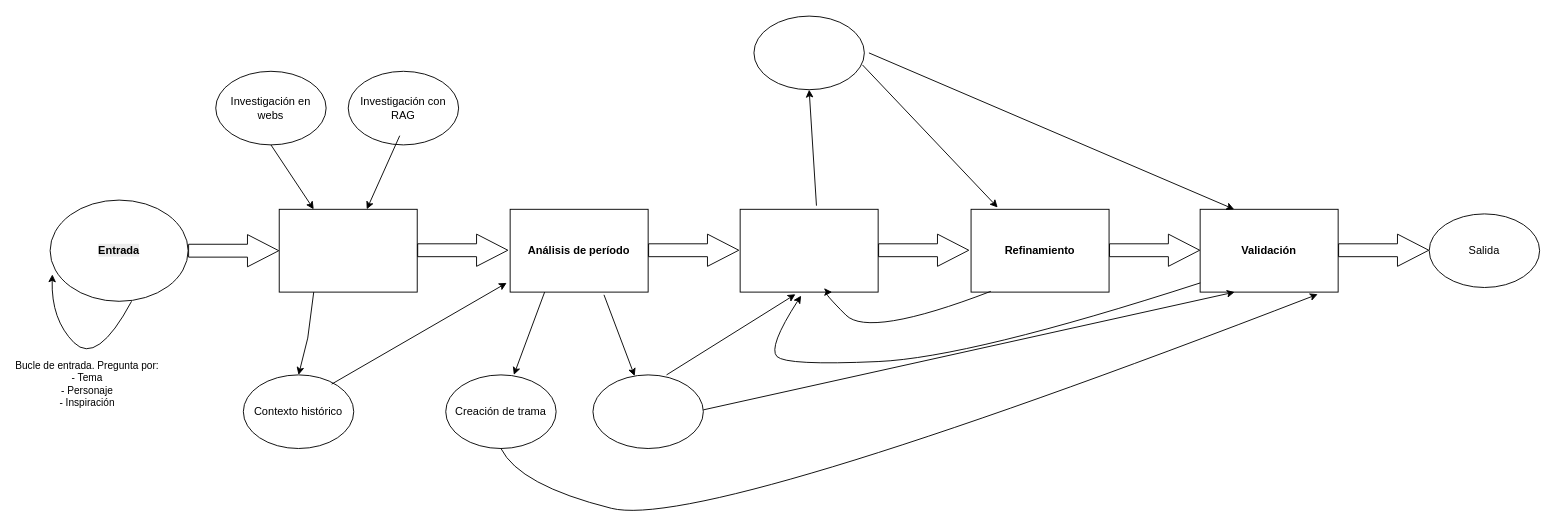
Image size: 1557x527. Some labels were removed from this diagram. The shapes that lost their labels are listed below. From the top down, each one's centre as x and y in pixels, then its label:
At pixel 808 52: "Historia que se va escrbiendo".
At pixel 347 250: "Investigación histórica".
At pixel 808 250: "Redacción".
At pixel 647 411: "Creación de personajes".
